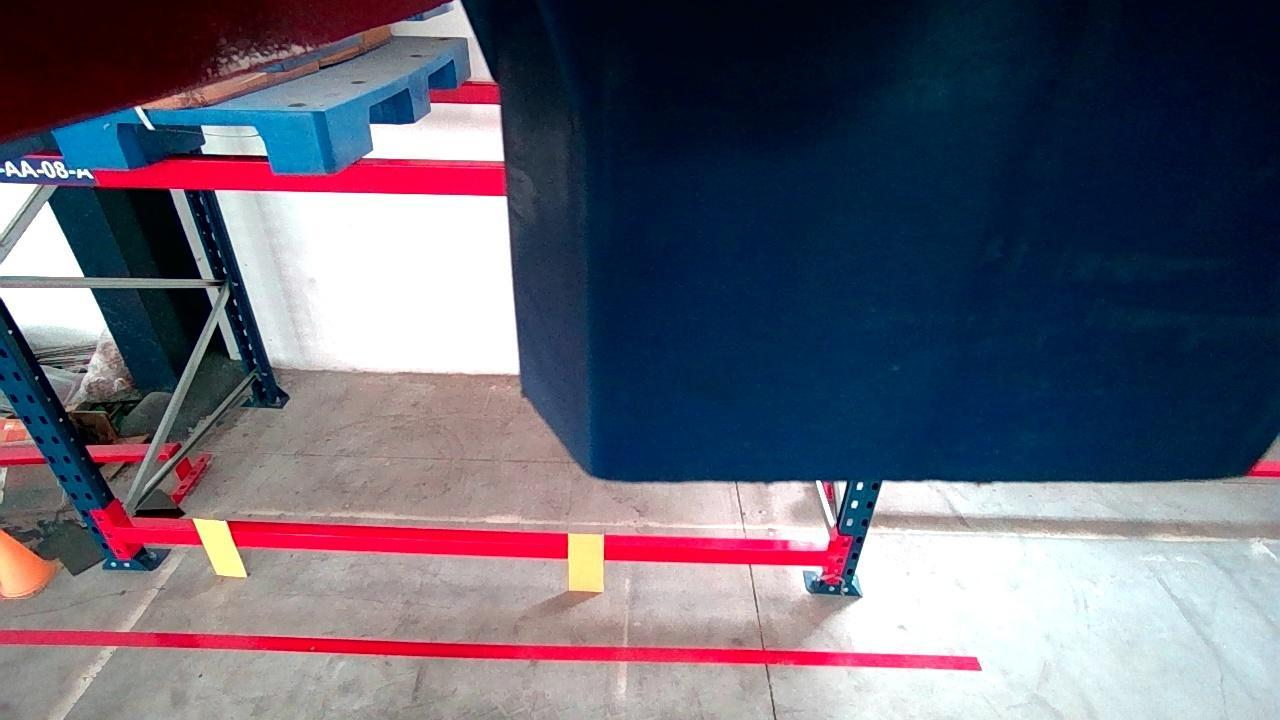h_rack: (117, 527, 825, 565), (0, 161, 505, 194)
orange_strip: (194, 521, 246, 575), (569, 534, 603, 591)
red_line: (2, 630, 983, 669)
small_pallet: (53, 112, 330, 176)
